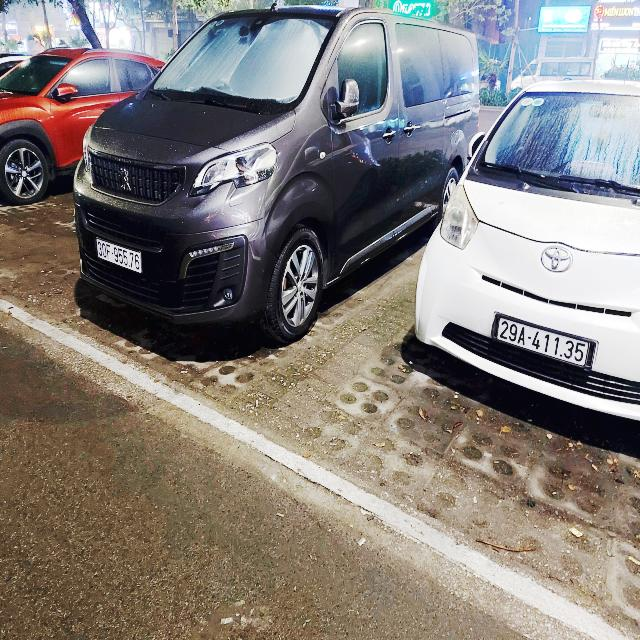license_plate: (490, 308, 603, 375), (97, 239, 143, 275)
